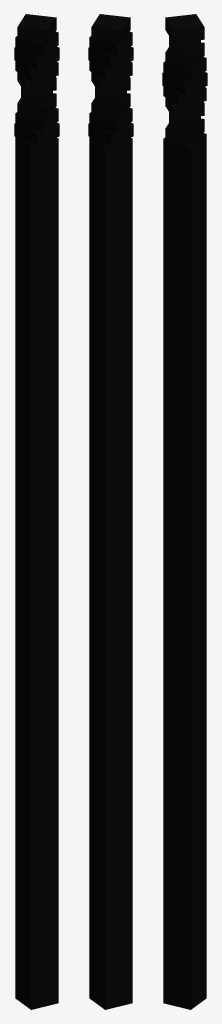
File: Hasira_O 1.fbx
3 views of the same model, side by side, from view 1: azimuth 30°, elevation 25°; view 2: azimuth 210°, elevation 25°; view 3: azimuth 330°, elevation 25° (orthographic).
Parts seen in each view (by area): view 1: pCube15; view 2: pCube15; view 3: pCube15.
Part boxes in pixels (box(x1,y1,x2,y2)): pCube15: box(14, 14, 59, 1009); pCube15: box(88, 14, 133, 1009); pCube15: box(162, 14, 207, 1009).
Size of the model in its own units: 248 by 5935 by 248.
